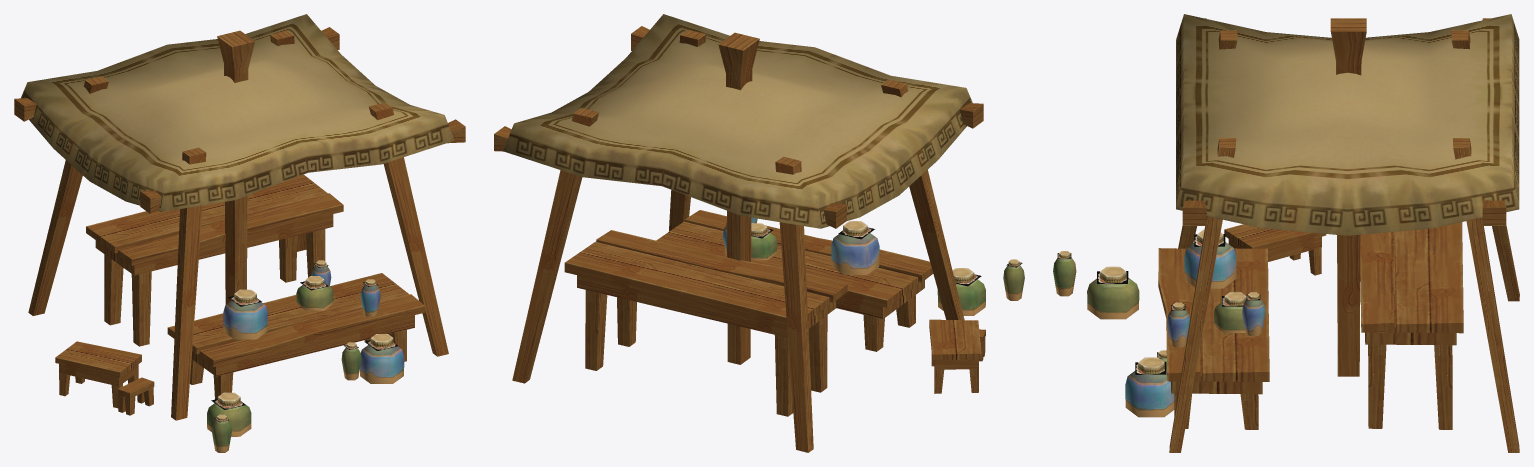
File: szc_object_tanwei01a.FBX
The picture shows the model from 3 angles, left to right: view 1: azimuth 30°, elevation 25°; view 2: azimuth 150°, elevation 25°; view 3: azimuth 270°, elevation 25°; orthographic projection. The views are drawn at different scales.
Parts seen in each view (by area): view 1: szc_object_tanwei01a; view 2: szc_object_tanwei01a; view 3: szc_object_tanwei01a.
Boxes of the visible parts, x1,y1,x2,y2 form: szc_object_tanwei01a: (14,14,465,452); szc_object_tanwei01a: (494,14,1024,452); szc_object_tanwei01a: (1053,14,1519,452).
Size of the model in its own units: 461 by 357 by 434.
